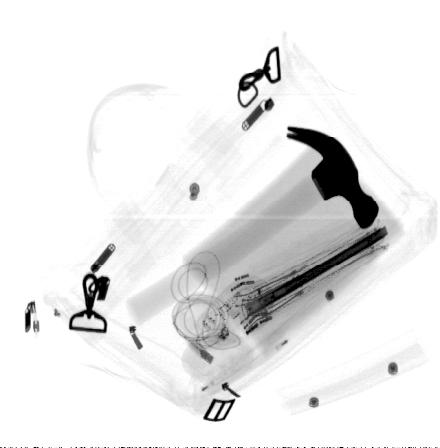Hammer: (124, 124, 380, 329)
